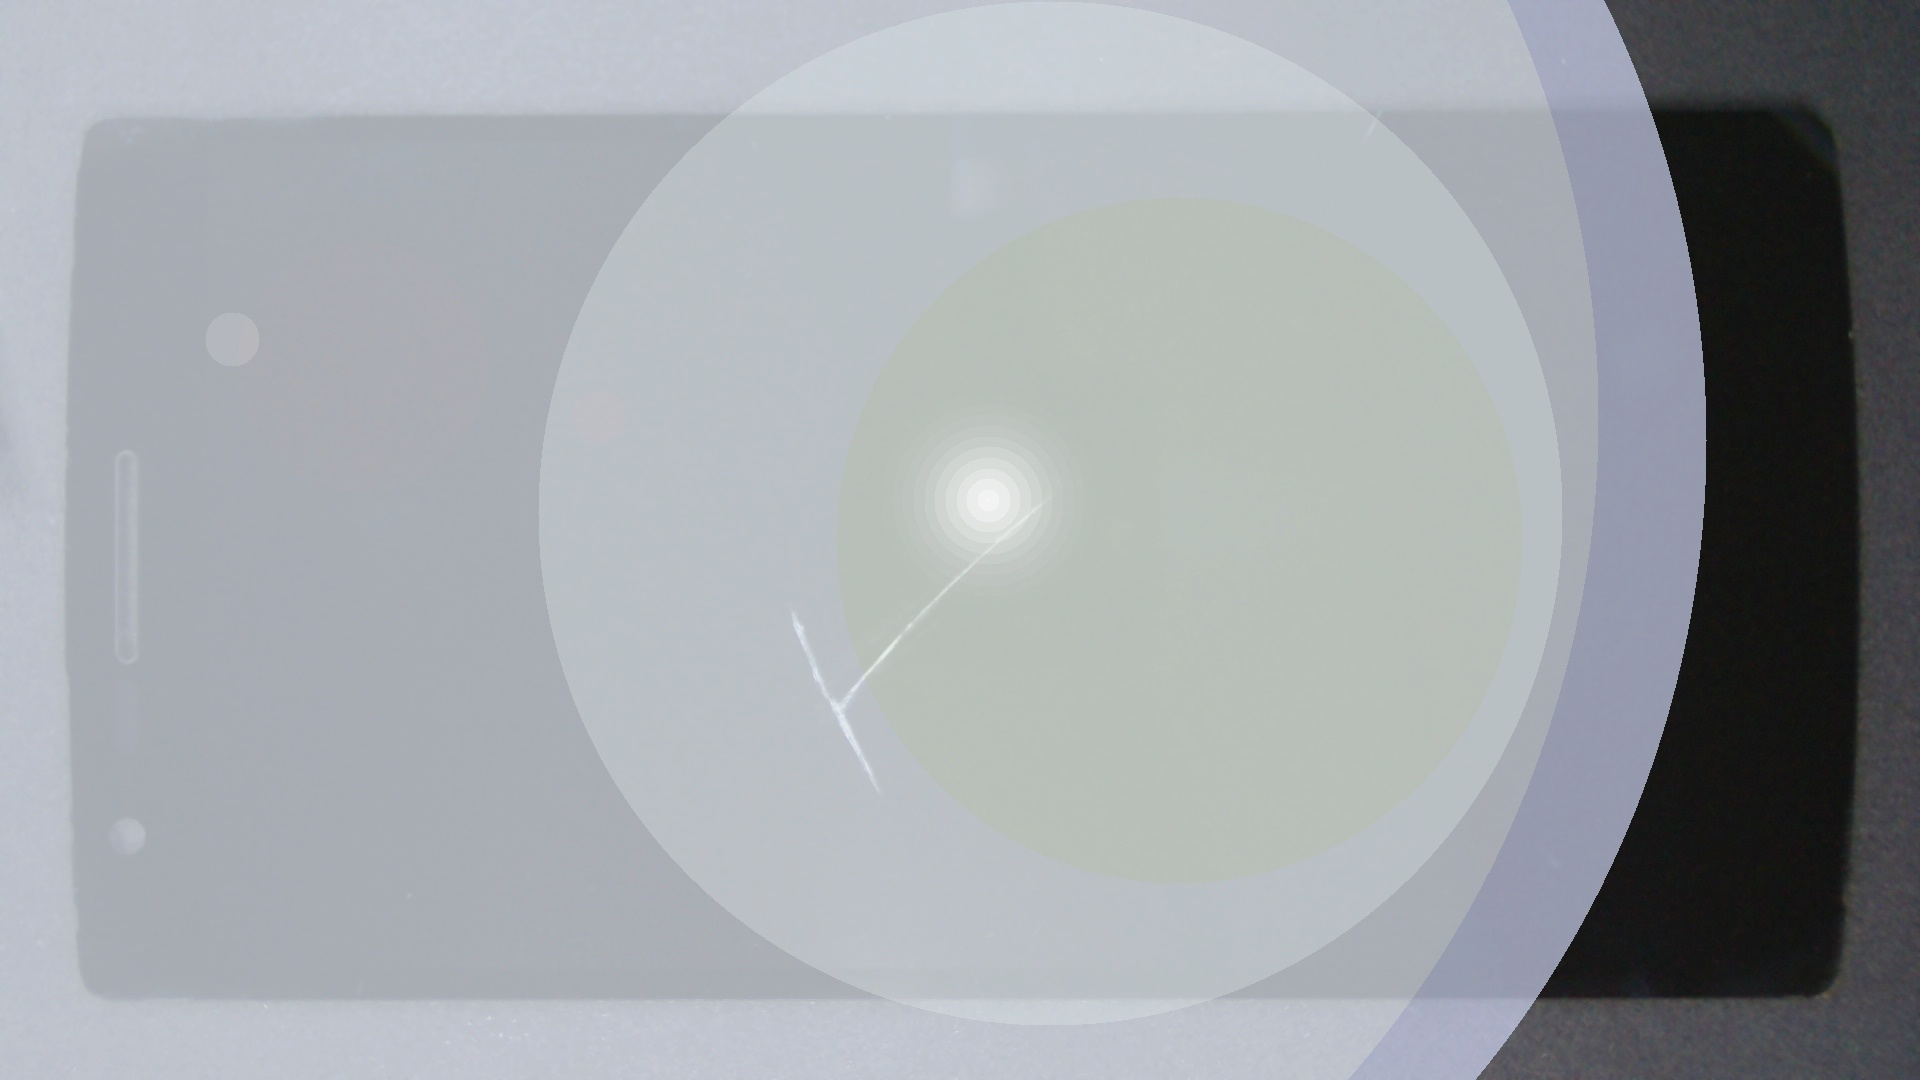oil: (526, 245, 1576, 741)
